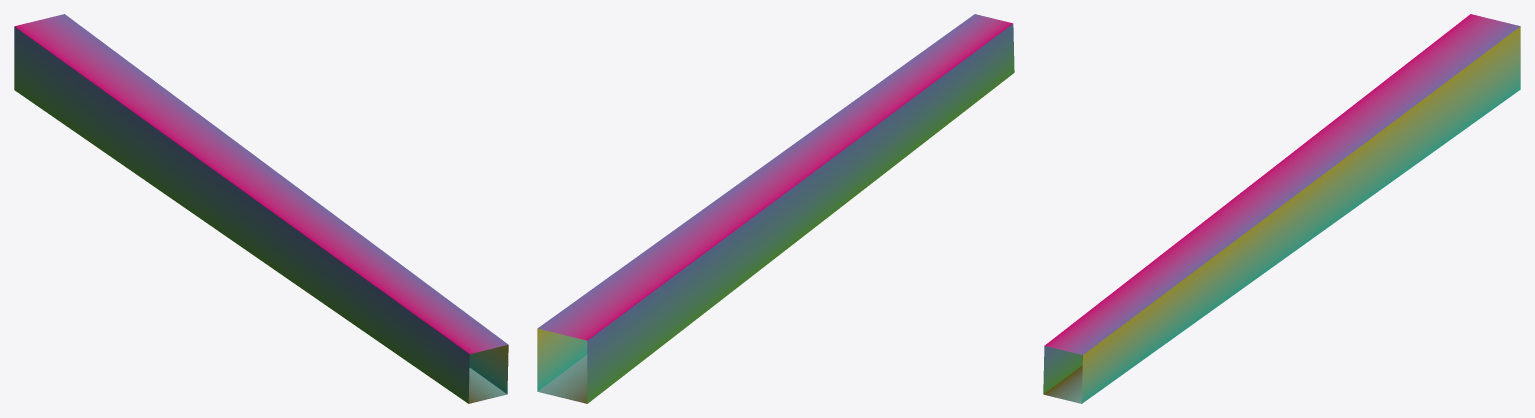
The model's file is Dock_Leg.glb.
3 views of the same model, side by side, from view 1: azimuth 30°, elevation 25°; view 2: azimuth 150°, elevation 25°; view 3: azimuth 330°, elevation 25° (orthographic).
Parts seen in each view (by area): view 1: MeshNode_0; view 2: MeshNode_0; view 3: MeshNode_0.
Boxes of the visible parts, x1,y1,x2,y2 form: MeshNode_0: [14, 14, 508, 403]; MeshNode_0: [537, 14, 1014, 403]; MeshNode_0: [1043, 14, 1520, 403].
Bounding box in the file's own units: 1.54 × 1.81 × 22.72.
